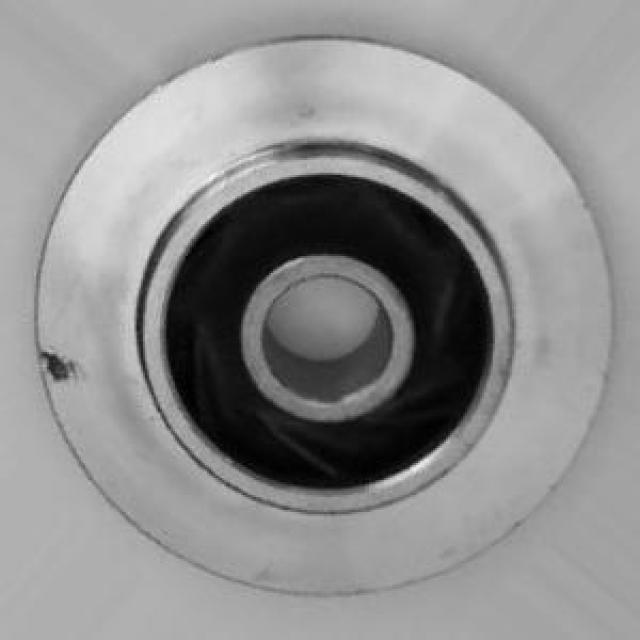Defect: (44, 346, 77, 388)
